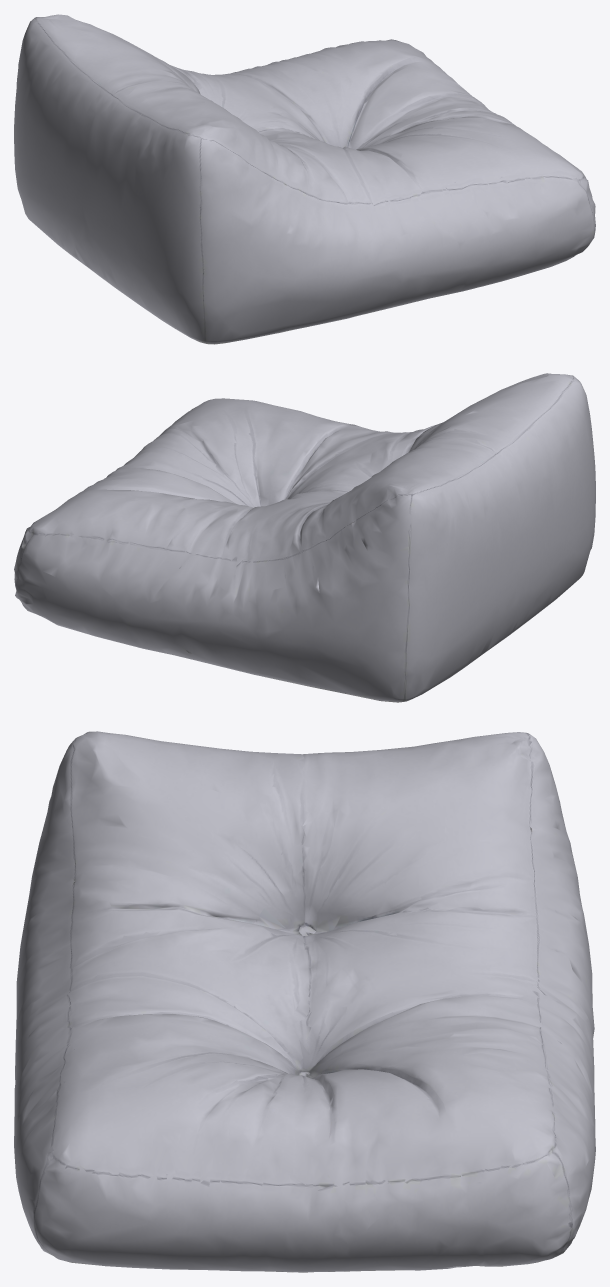
The model's file is BinbagBModeling.fbx.
The picture shows the model from 3 angles, top to bottom: view 1: azimuth 30°, elevation 25°; view 2: azimuth 150°, elevation 25°; view 3: azimuth 270°, elevation 25°; orthographic projection. The views are drawn at different scales.
Visible parts, largest first — view 1: tripo_node_fac28363; view 2: tripo_node_fac28363; view 3: tripo_node_fac28363.
Part boxes in pixels (x1,y1,x2,y2): tripo_node_fac28363: (14, 14, 595, 344); tripo_node_fac28363: (14, 373, 595, 702); tripo_node_fac28363: (14, 731, 595, 1272).
Bounding box in the file's own units: 98.02 × 47.91 × 83.94.
1 material, 1 textured.
